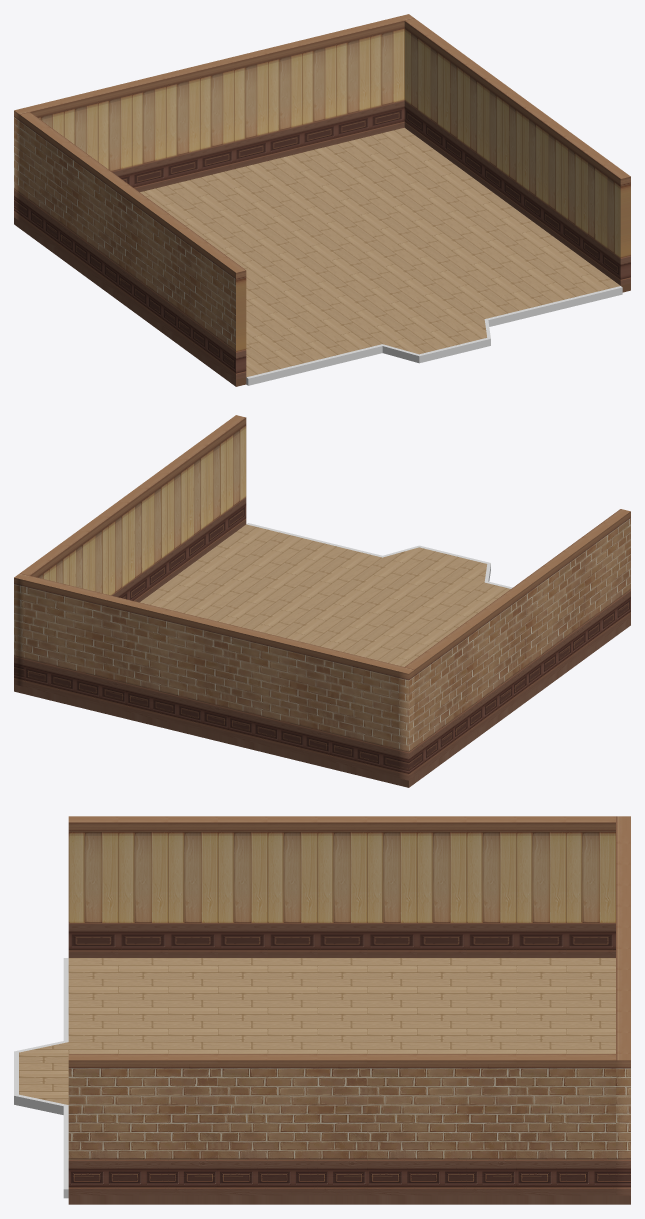
File: Room_wallpaper04.FBX
3 renders of one model, top to bottom at view 1: azimuth 30°, elevation 25°; view 2: azimuth 150°, elevation 25°; view 3: azimuth 270°, elevation 25°, orthographic. The views are drawn at different scales.
Parts seen in each view (by area): view 1: Room_wallpaper04_left_out, Room_wallpaper04_front_011, Room_wallpaper04_front_009, Room_wallpaper04_front_005, Room_wallpaper04_front_008, Room_wallpaper04_front_006, Room_wallpaper04_front_010, Room_wallpaper04_front_007, Room_wallpaper04_front_004, Room_wallpaper04_right_011, Room_wallpaper04_front_003, Room_linoleum04_out (+112 smaller); view 2: Room_wallpaper04_front_out, Room_wallpaper04_left_out, Room_wallpaper04_right_008, Room_wallpaper04_right_011, Room_wallpaper04_right_007, Room_wallpaper04_right_009, Room_wallpaper04_right_010, Room_wallpaper04_right_006, Room_wallpaper04_right_005, Room_wallpaper04_right_004, Room_wallpaper04_right_003, Room_wallpaper04_right_002 (+44 smaller); view 3: Room_wallpaper04_right_out, Room_wallpaper04_left_002, Room_wallpaper04_left_003, Room_wallpaper04_left_006, Room_wallpaper04_left_007, Room_wallpaper04_left_010, Room_wallpaper04_left_011, Room_wallpaper04_left_001, Room_wallpaper04_left_004, Room_wallpaper04_left_005, Room_wallpaper04_left_008, Room_wallpaper04_left_009 (+61 smaller).
Boxes of the visible parts, box(x1,y1,x2,y2) form: Room_wallpaper04_left_out: box(20, 115, 235, 386); Room_wallpaper04_front_011: box(365, 14, 414, 135); Room_wallpaper04_front_009: box(297, 33, 336, 152); Room_wallpaper04_front_005: box(161, 66, 200, 185); Room_wallpaper04_front_008: box(263, 41, 302, 160); Room_wallpaper04_front_006: box(195, 58, 234, 177); Room_wallpaper04_front_010: box(331, 25, 370, 143); Room_wallpaper04_front_007: box(229, 50, 268, 168); Room_wallpaper04_front_004: box(127, 74, 166, 192); Room_wallpaper04_right_011: box(601, 162, 630, 292); Room_wallpaper04_front_003: box(92, 83, 132, 186); Room_linoleum04_out: box(246, 287, 622, 385); Room_wallpaper04_front_out: box(14, 577, 414, 787); Room_wallpaper04_left_out: box(414, 511, 630, 783); Room_wallpaper04_right_008: box(158, 458, 187, 581); Room_wallpaper04_right_011: box(216, 415, 246, 538); Room_wallpaper04_right_007: box(138, 472, 167, 595); Room_wallpaper04_right_009: box(177, 444, 206, 567); Room_wallpaper04_right_010: box(197, 429, 226, 552); Room_wallpaper04_right_006: box(118, 487, 147, 602); Room_wallpaper04_right_005: box(99, 501, 128, 599); Room_wallpaper04_right_004: box(79, 515, 108, 594); Room_wallpaper04_right_003: box(59, 530, 88, 589); Room_wallpaper04_right_002: box(40, 544, 69, 584); Room_wallpaper04_right_out: box(68, 1060, 615, 1204); Room_wallpaper04_left_002: box(516, 816, 566, 957); Room_wallpaper04_left_003: box(466, 816, 516, 957); Room_wallpaper04_left_006: box(317, 816, 367, 957); Room_wallpaper04_left_007: box(267, 816, 317, 957); Room_wallpaper04_left_010: box(118, 816, 168, 957); Room_wallpaper04_left_011: box(68, 816, 118, 957); Room_wallpaper04_left_001: box(566, 816, 615, 957); Room_wallpaper04_left_004: box(417, 816, 466, 957); Room_wallpaper04_left_005: box(367, 816, 416, 957); Room_wallpaper04_left_008: box(218, 816, 267, 957); Room_wallpaper04_left_009: box(168, 816, 217, 957).
Size of the model in its own units: 11.6 by 3.2 by 12.4.
